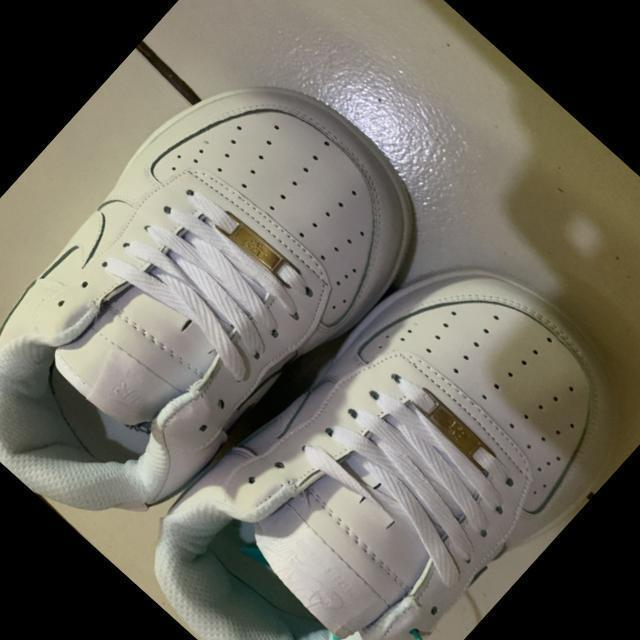nike fake air force: (0, 21, 457, 576), (118, 202, 640, 640)
